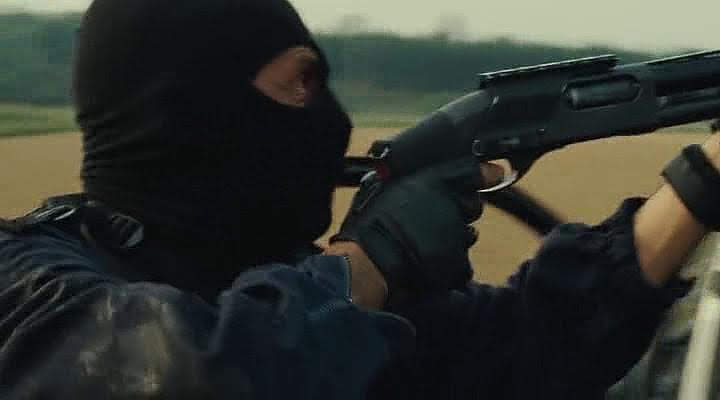gun: (333, 22, 712, 260)
